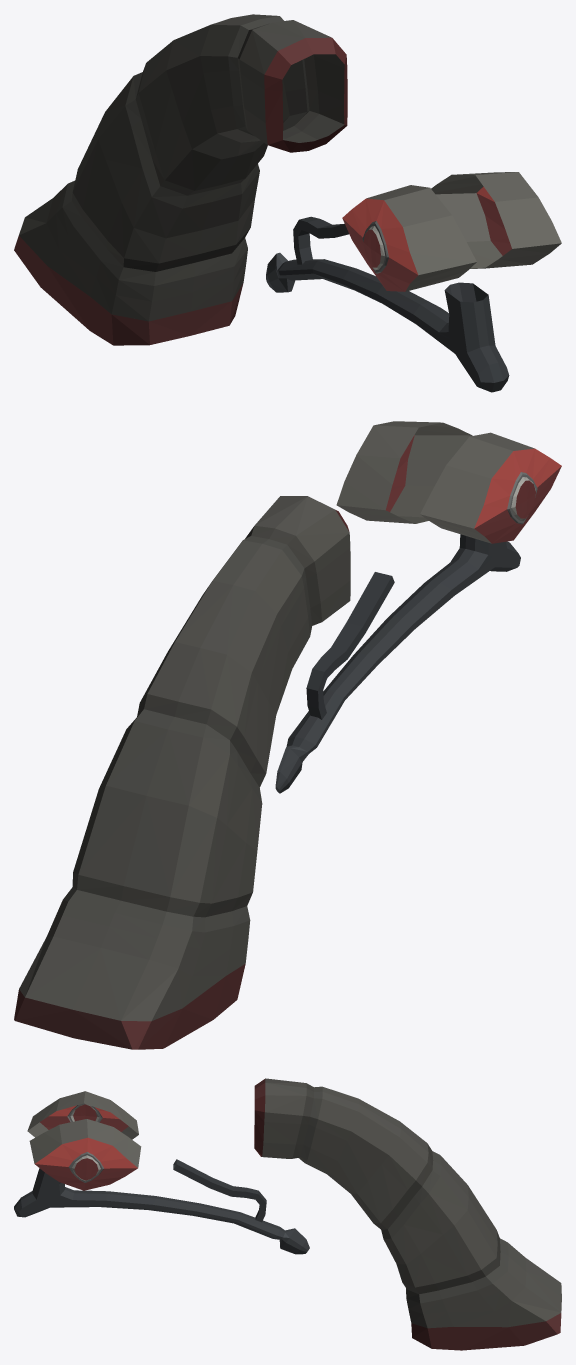
File: smallCrossbowLostCrownHandle.glb
The picture shows the model from 3 angles, top to bottom: view 1: azimuth 30°, elevation 25°; view 2: azimuth 150°, elevation 25°; view 3: azimuth 270°, elevation 25°; orthographic projection. The views are drawn at different scales.
Parts seen in each view (by area): view 1: smallCrossbowLostCrownHandle; view 2: smallCrossbowLostCrownHandle; view 3: smallCrossbowLostCrownHandle.
Part boxes in pixels (x1,y1,x2,y2): smallCrossbowLostCrownHandle: (14,14,561,392); smallCrossbowLostCrownHandle: (14,421,561,1049); smallCrossbowLostCrownHandle: (14,1078,561,1350).
Size of the model in its own units: 0.0751 by 0.1775 by 0.3521.
